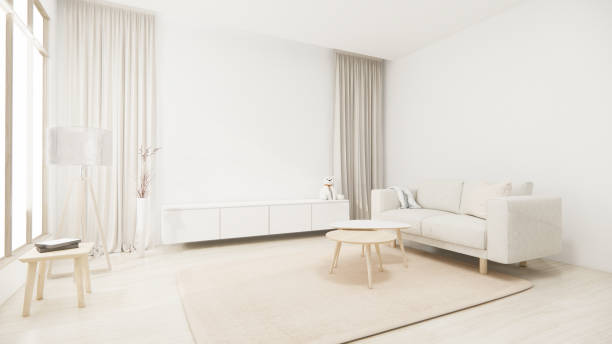floor lamp: (48, 124, 115, 271)
flower vase: (132, 142, 163, 254)
sofa: (368, 177, 565, 277)
table: (323, 218, 411, 290), (20, 237, 93, 317)
